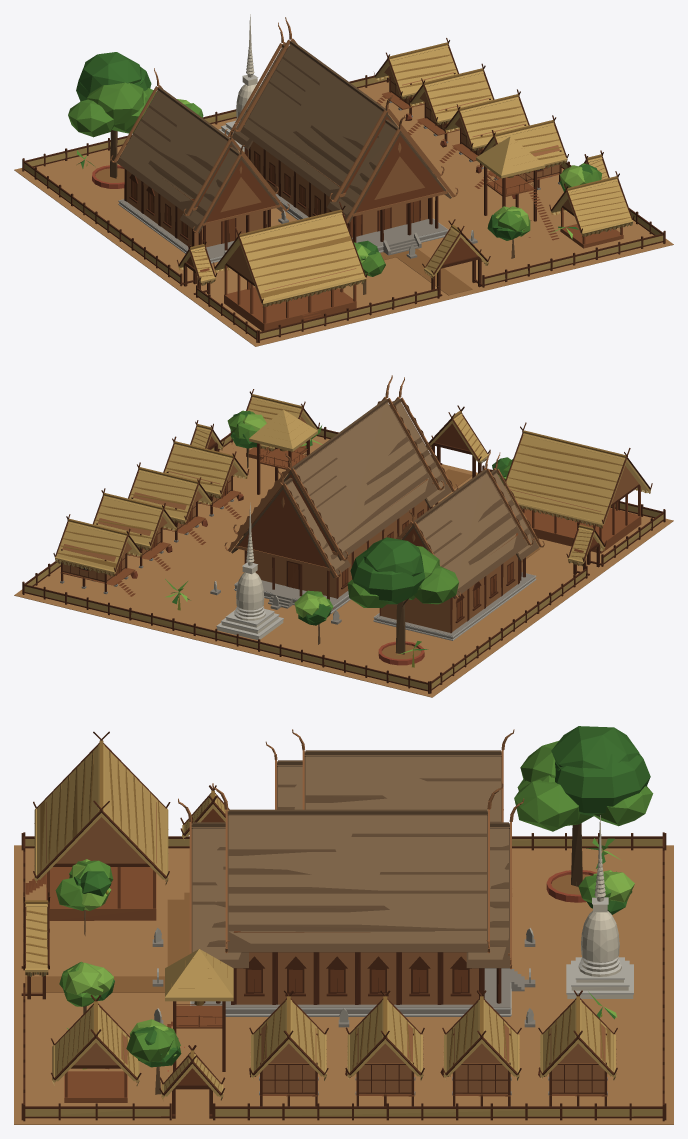
The model's file is temple_3.glb.
The picture shows the model from 3 angles, top to bottom: view 1: azimuth 30°, elevation 25°; view 2: azimuth 150°, elevation 25°; view 3: azimuth 270°, elevation 25°; orthographic projection. The views are drawn at different scales.
Visible parts, largest first — view 1: body; view 2: body; view 3: body.
Boxes of the visible parts, x1,y1,x2,y2 form: body: (14, 14, 673, 346); body: (14, 375, 673, 697); body: (14, 726, 673, 1124).
Size of the model in its own units: 47.9 by 16.24 by 47.9.
